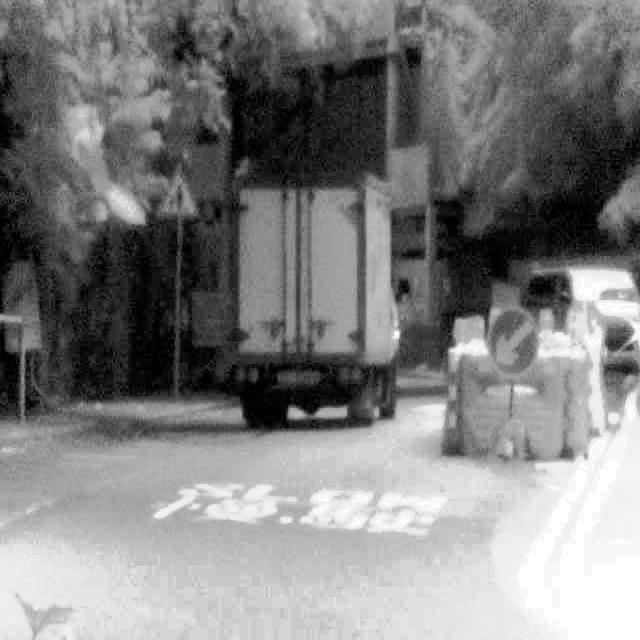Truck: (226, 168, 401, 430)
